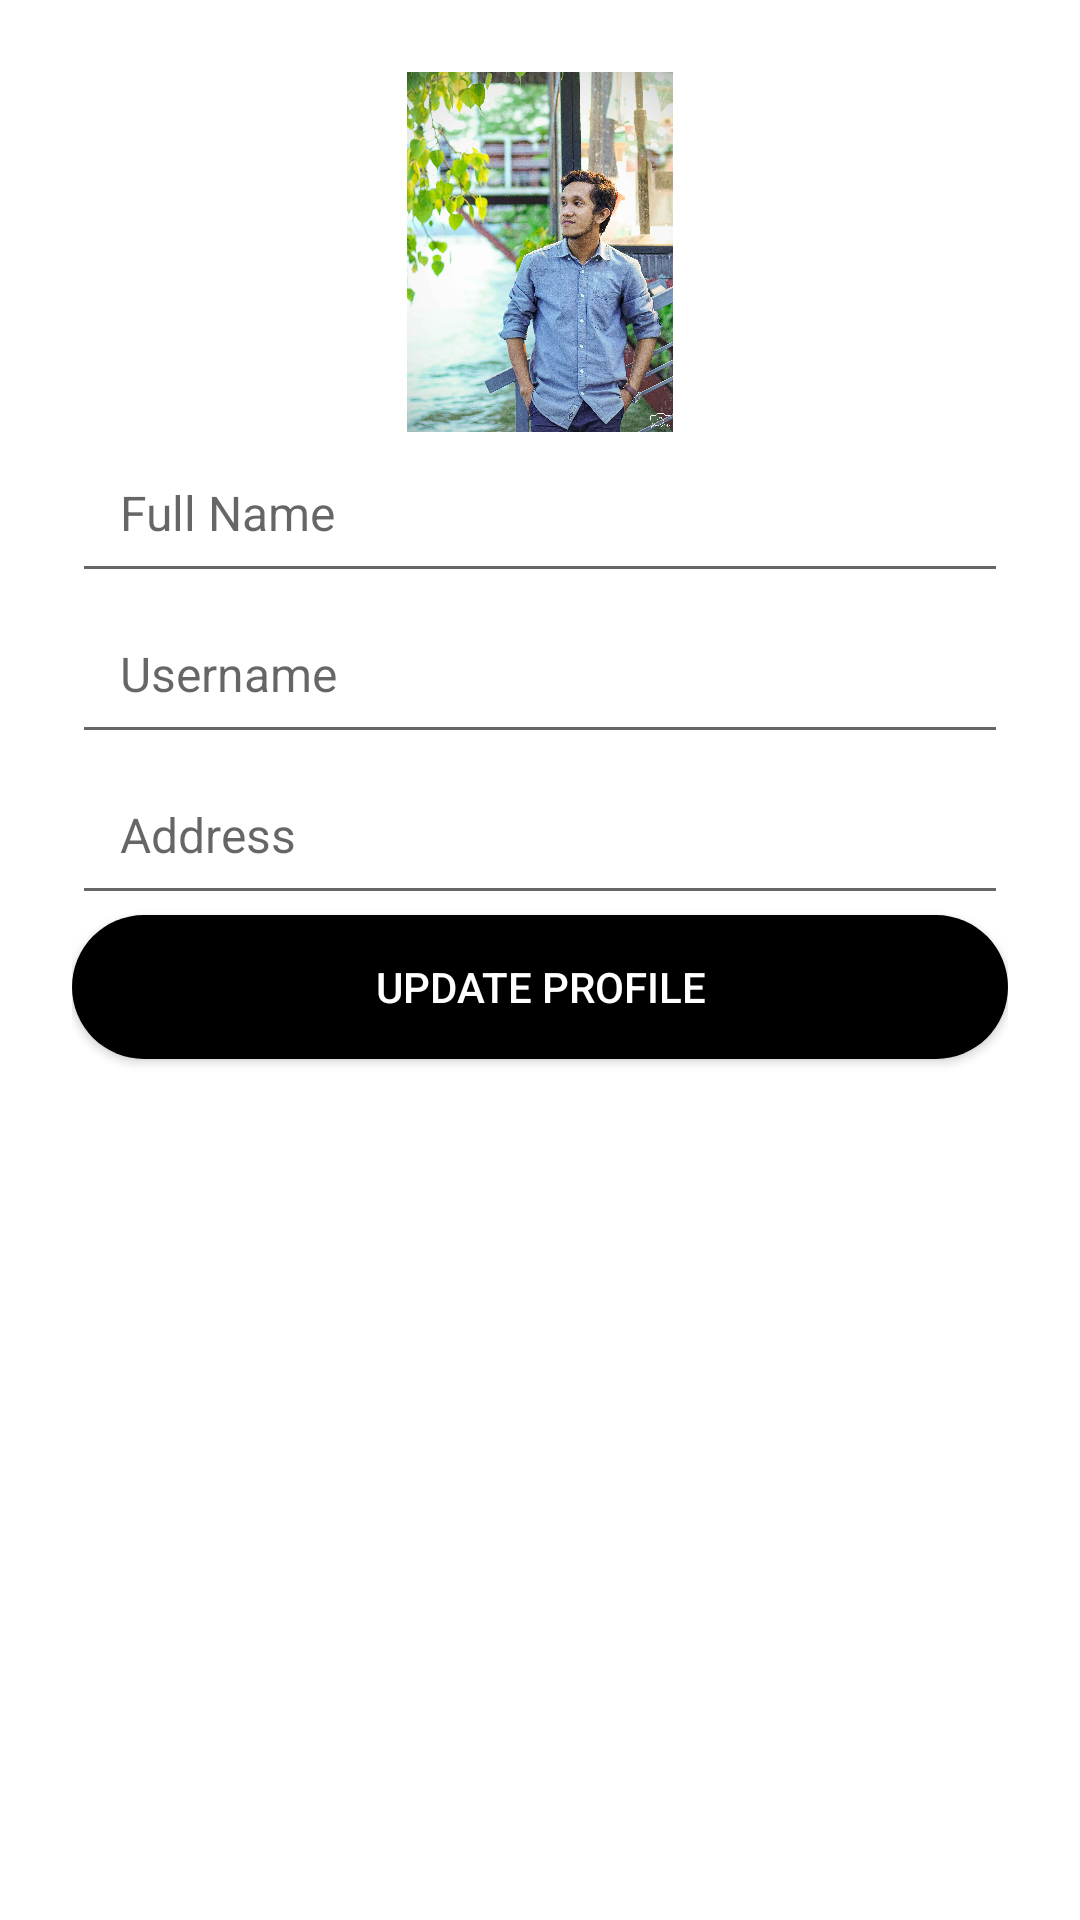

Where icons sit on this 1080 x 1920 app screen, as (x1,y1,x2,y2):
profile: (407,72,673,432)
